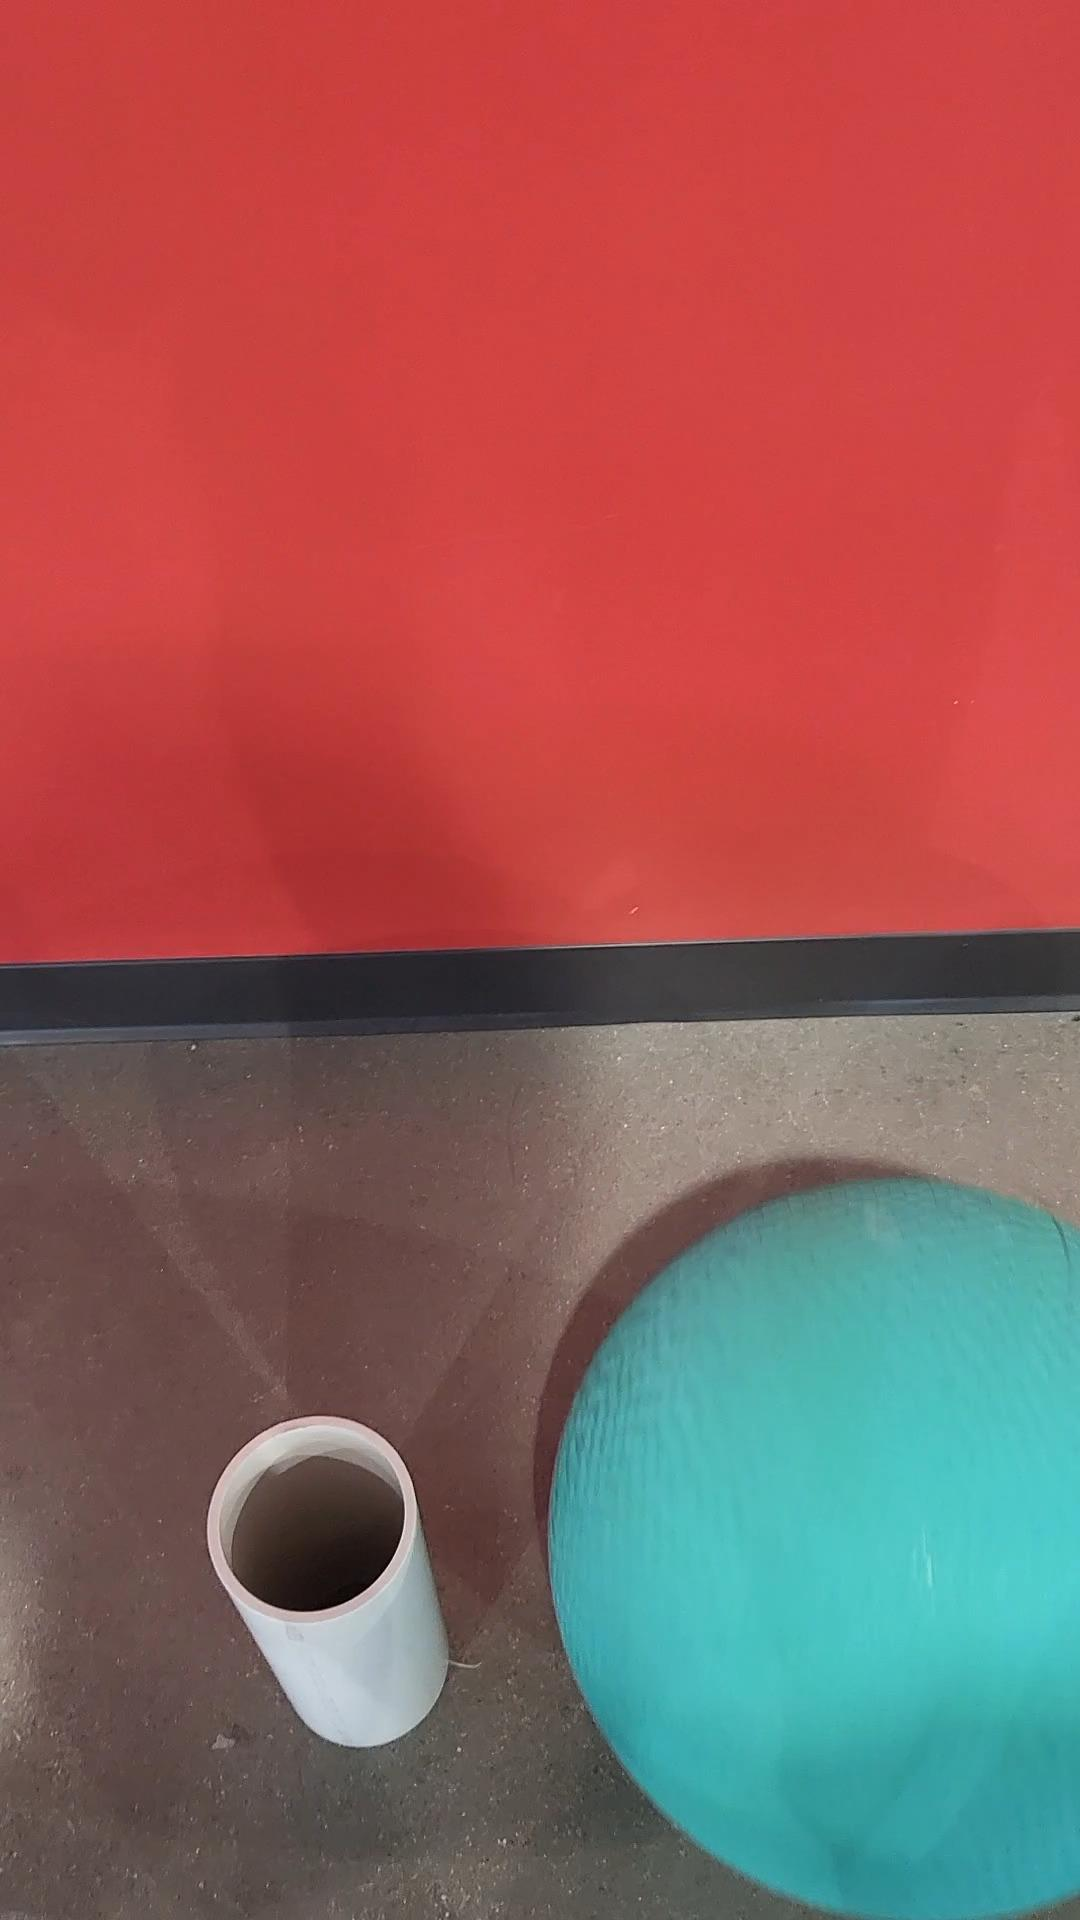algae: (542, 1179, 1079, 1920)
coral: (206, 1410, 459, 1753)
